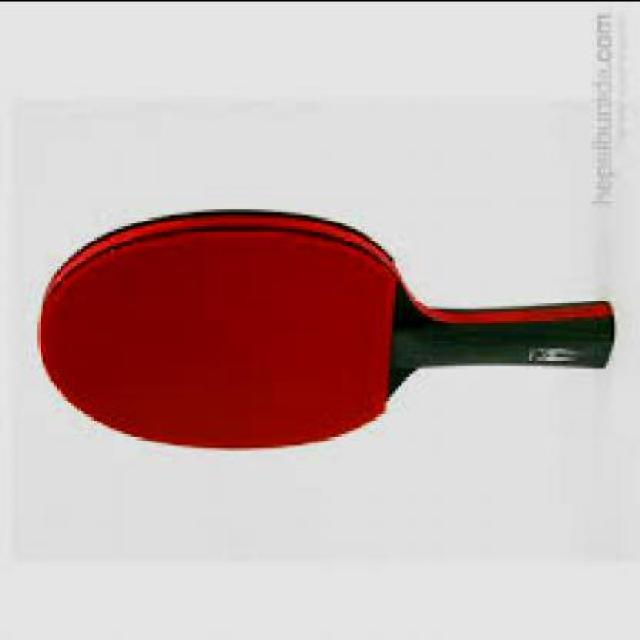table_tennis_racket: (33, 202, 418, 455)
